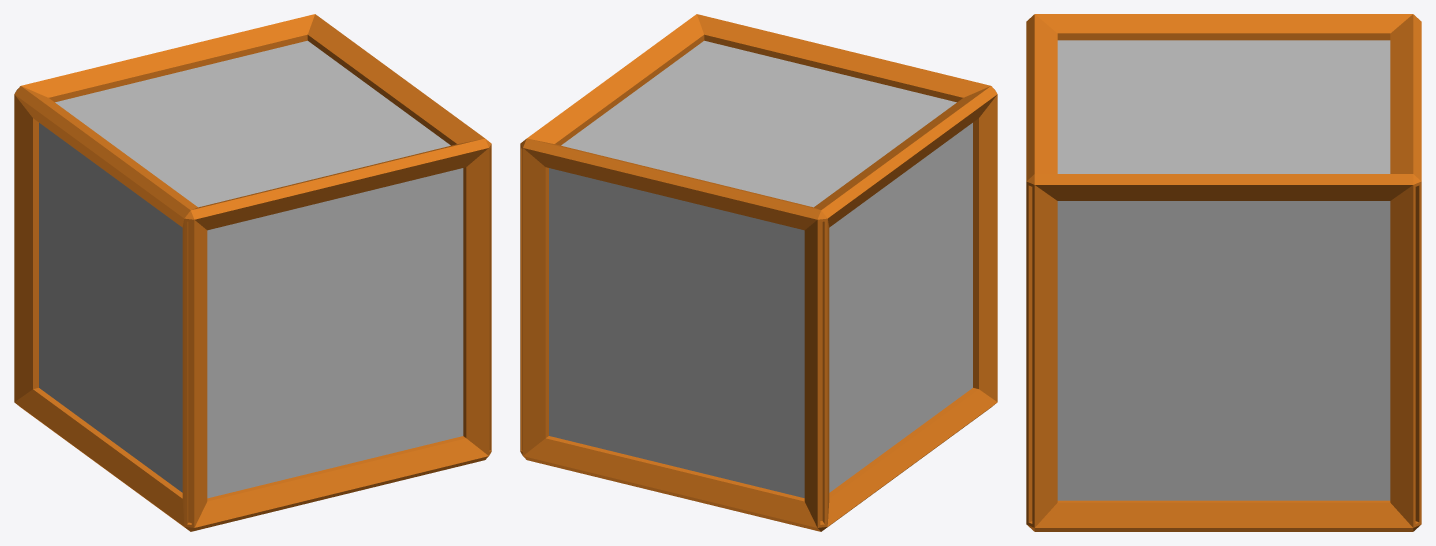
3 renders of one model, left to right at view 1: azimuth 30°, elevation 25°; view 2: azimuth 150°, elevation 25°; view 3: azimuth 270°, elevation 25°, orthographic. The views are drawn at different scales.
Visible parts, largest first — view 1: Cube; view 2: Cube; view 3: Cube.
Boxes of the visible parts, x1,y1,x2,y2 form: Cube: (14, 14, 491, 531); Cube: (520, 14, 997, 531); Cube: (1026, 14, 1421, 531).
Size of the model in its own units: 90 by 90 by 90.
